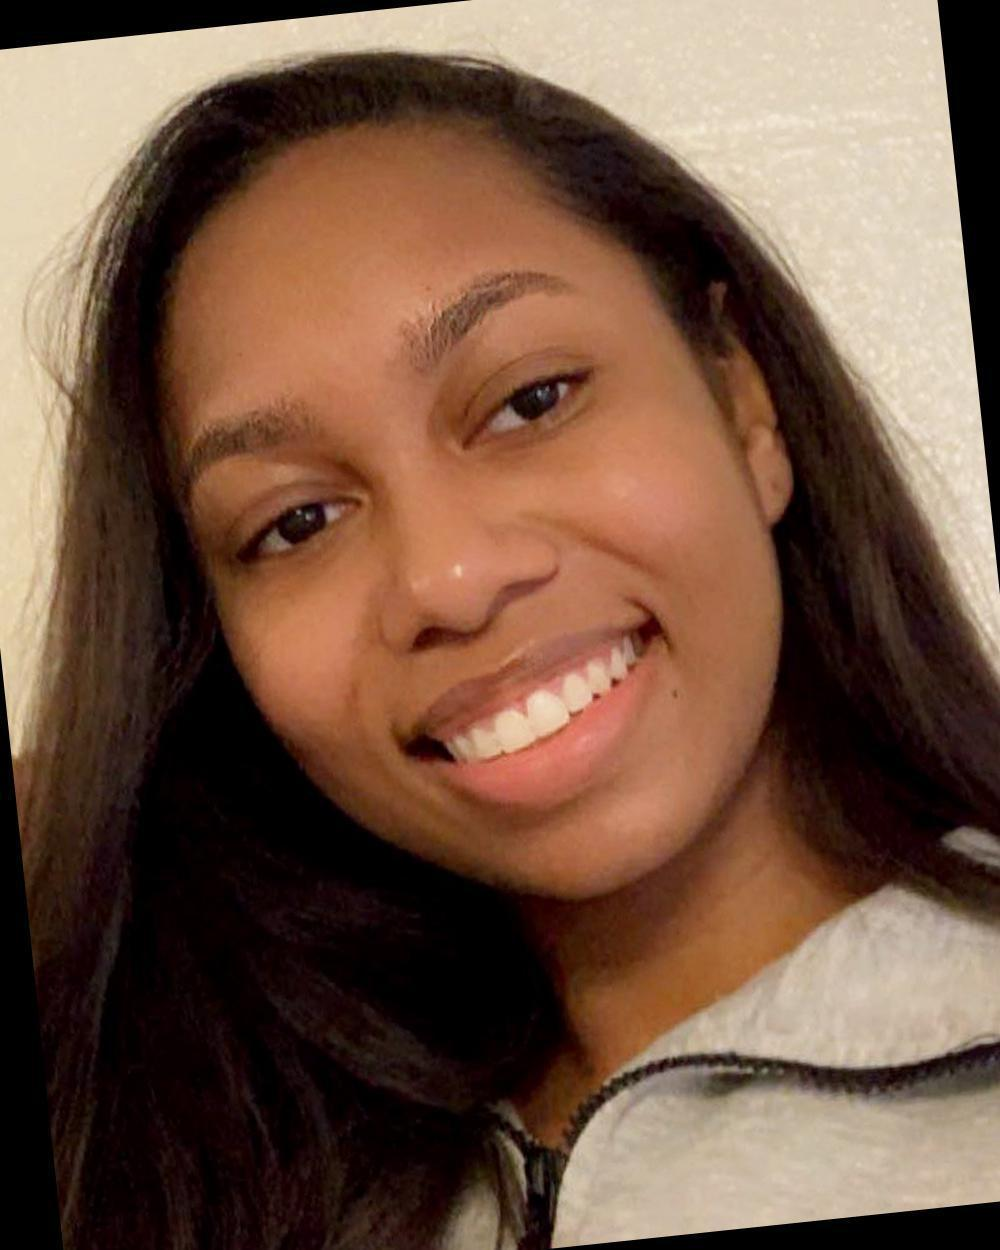Sober: (166, 186, 743, 852)
